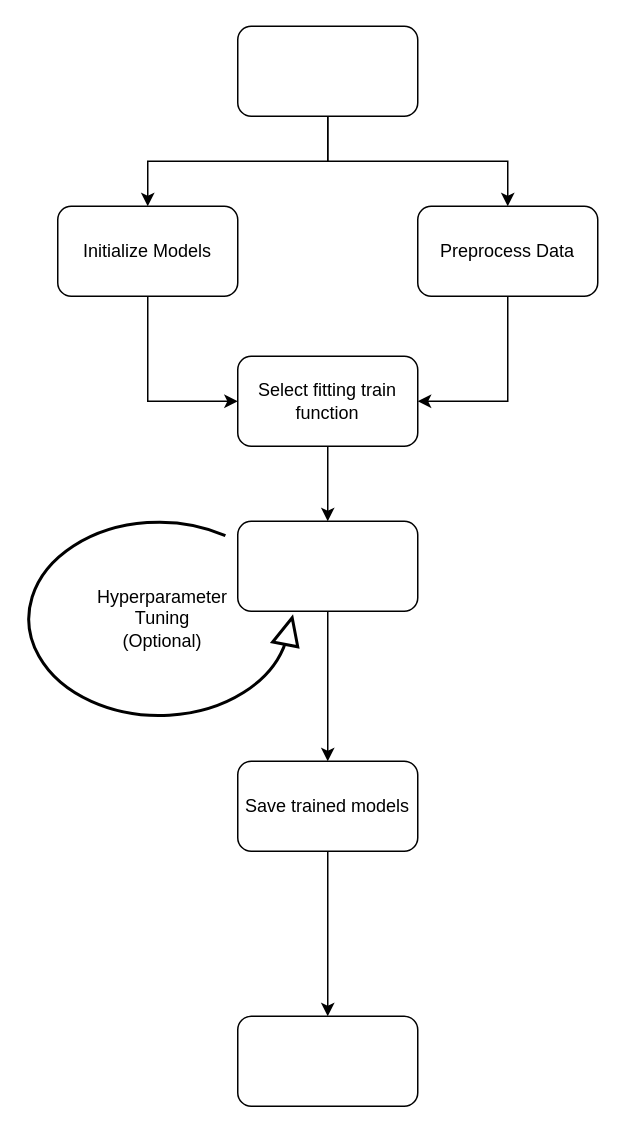
The diagram is 624 pixels wide and 1133 high, and some of its shapes have lost their labels. The centre of each missing label's shape, as x and y in pixels:
Configurate Run: [327,70]
Save run information: [327,1060]
Training with Cross Validation: [327,565]
